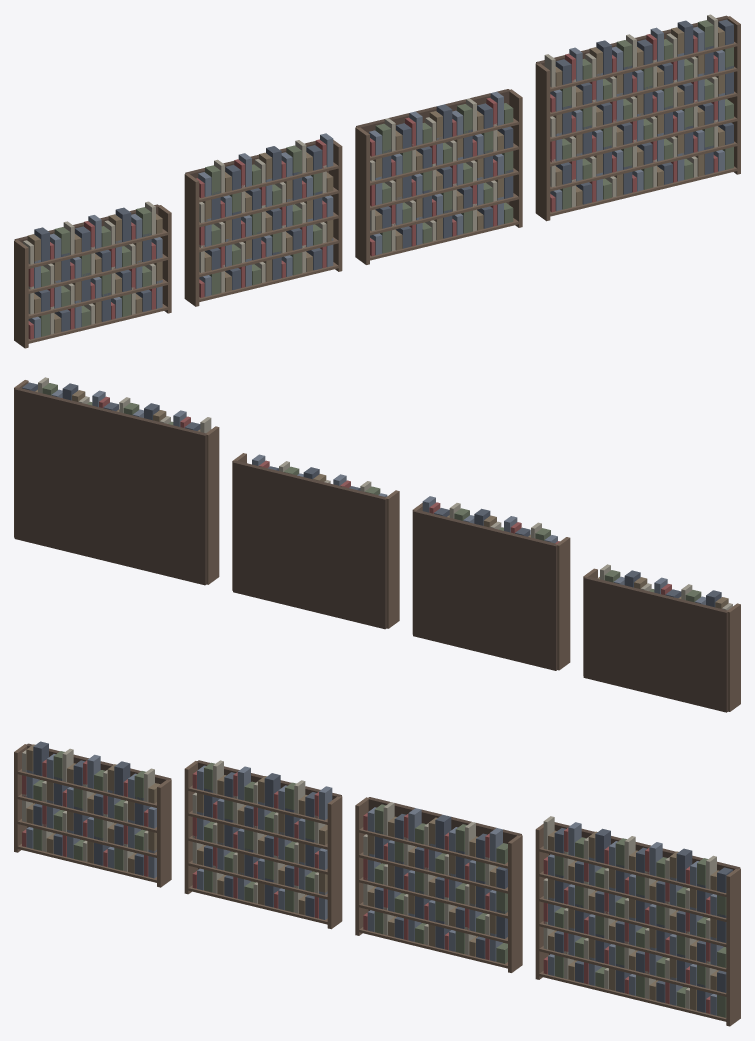
The model's file is estanteria.glb.
3 views of the same model, one above another, from view 1: azimuth 30°, elevation 25°; view 2: azimuth 150°, elevation 25°; view 3: azimuth 330°, elevation 25° (orthographic).
Parts seen in each view (by area): view 1: Estanteria_400x300, Estanteria_320x260, Estanteria_300x250, Estanteria_300x200; view 2: Estanteria_400x300, Estanteria_320x260, Estanteria_300x250, Estanteria_300x200; view 3: Estanteria_400x300, Estanteria_320x260, Estanteria_300x250, Estanteria_300x200.
Boxes of the visible parts, x1,y1,x2,y2 form: Estanteria_400x300: [535, 14, 740, 221]; Estanteria_320x260: [355, 89, 522, 264]; Estanteria_300x250: [184, 133, 342, 306]; Estanteria_300x200: [14, 201, 171, 348]; Estanteria_400x300: [14, 377, 219, 585]; Estanteria_320x260: [232, 453, 399, 629]; Estanteria_300x250: [412, 496, 570, 670]; Estanteria_300x200: [583, 564, 740, 712]; Estanteria_400x300: [535, 816, 740, 1026]; Estanteria_320x260: [355, 797, 522, 972]; Estanteria_300x250: [184, 760, 342, 929]; Estanteria_300x200: [14, 741, 171, 887].
Bounding box in the file's own units: 15.02 × 3.17 × 0.45.
